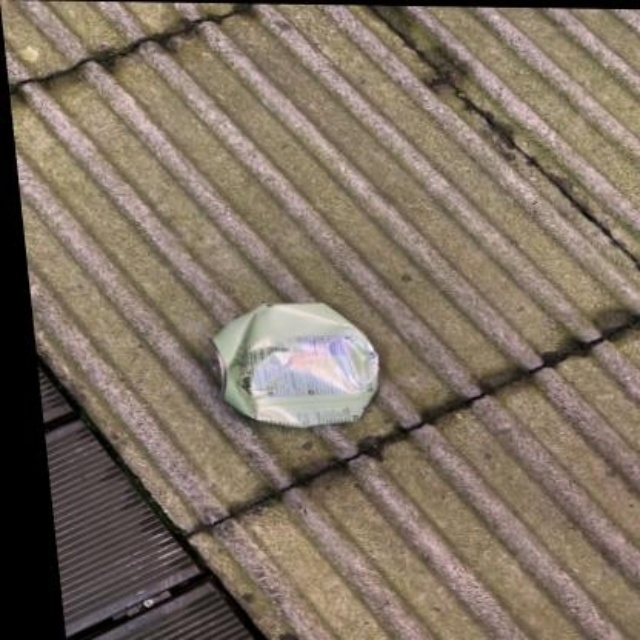trash: (214, 303, 377, 426)
